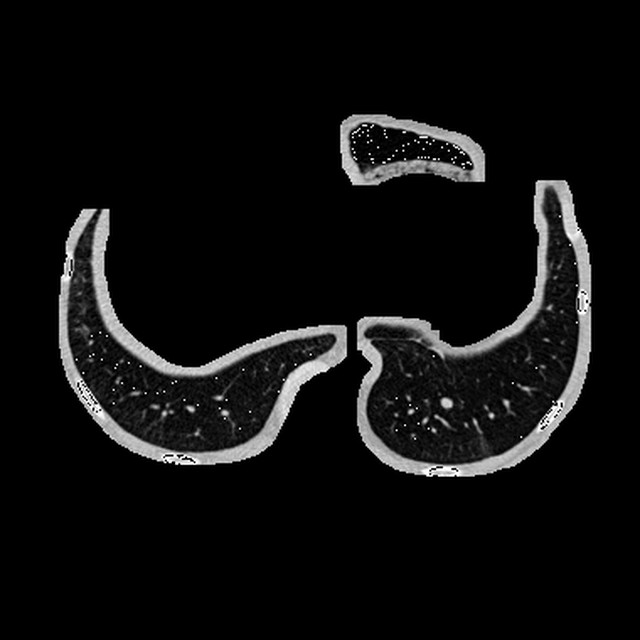PN: (440, 396, 453, 409)
